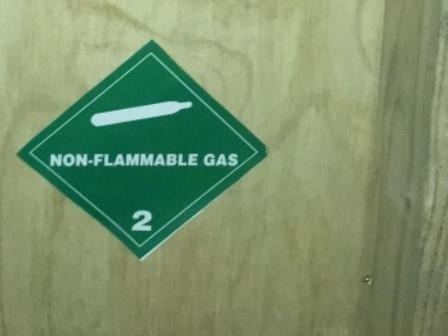non-flammable-gas: (16, 37, 272, 262)
